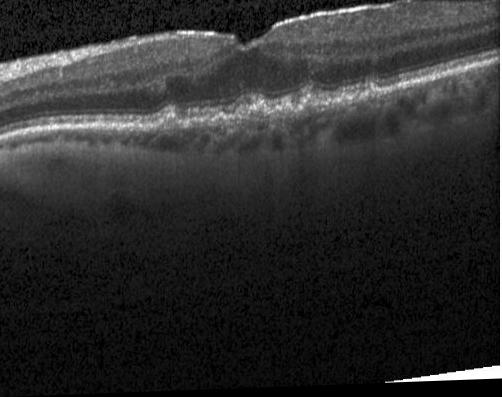lamellar_macular_rupture: (234, 28, 272, 47)
retinal_drusen: (234, 104, 267, 126), (155, 116, 180, 134), (297, 97, 317, 118), (358, 88, 379, 103), (274, 106, 294, 119), (191, 120, 209, 129), (214, 116, 225, 127), (340, 97, 351, 106)
